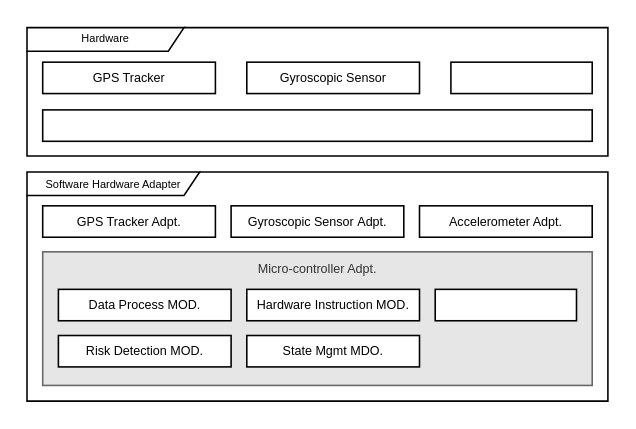
The diagram is 636 pixels wide and 429 high, and some of its shapes have lost their labels. The centre of each missing label's shape, as x and y in pixels:
Accelerometer: point (520, 77)
Cloud Server Communication MOD.: point (505, 304)
Micro-controller: point (316, 124)
